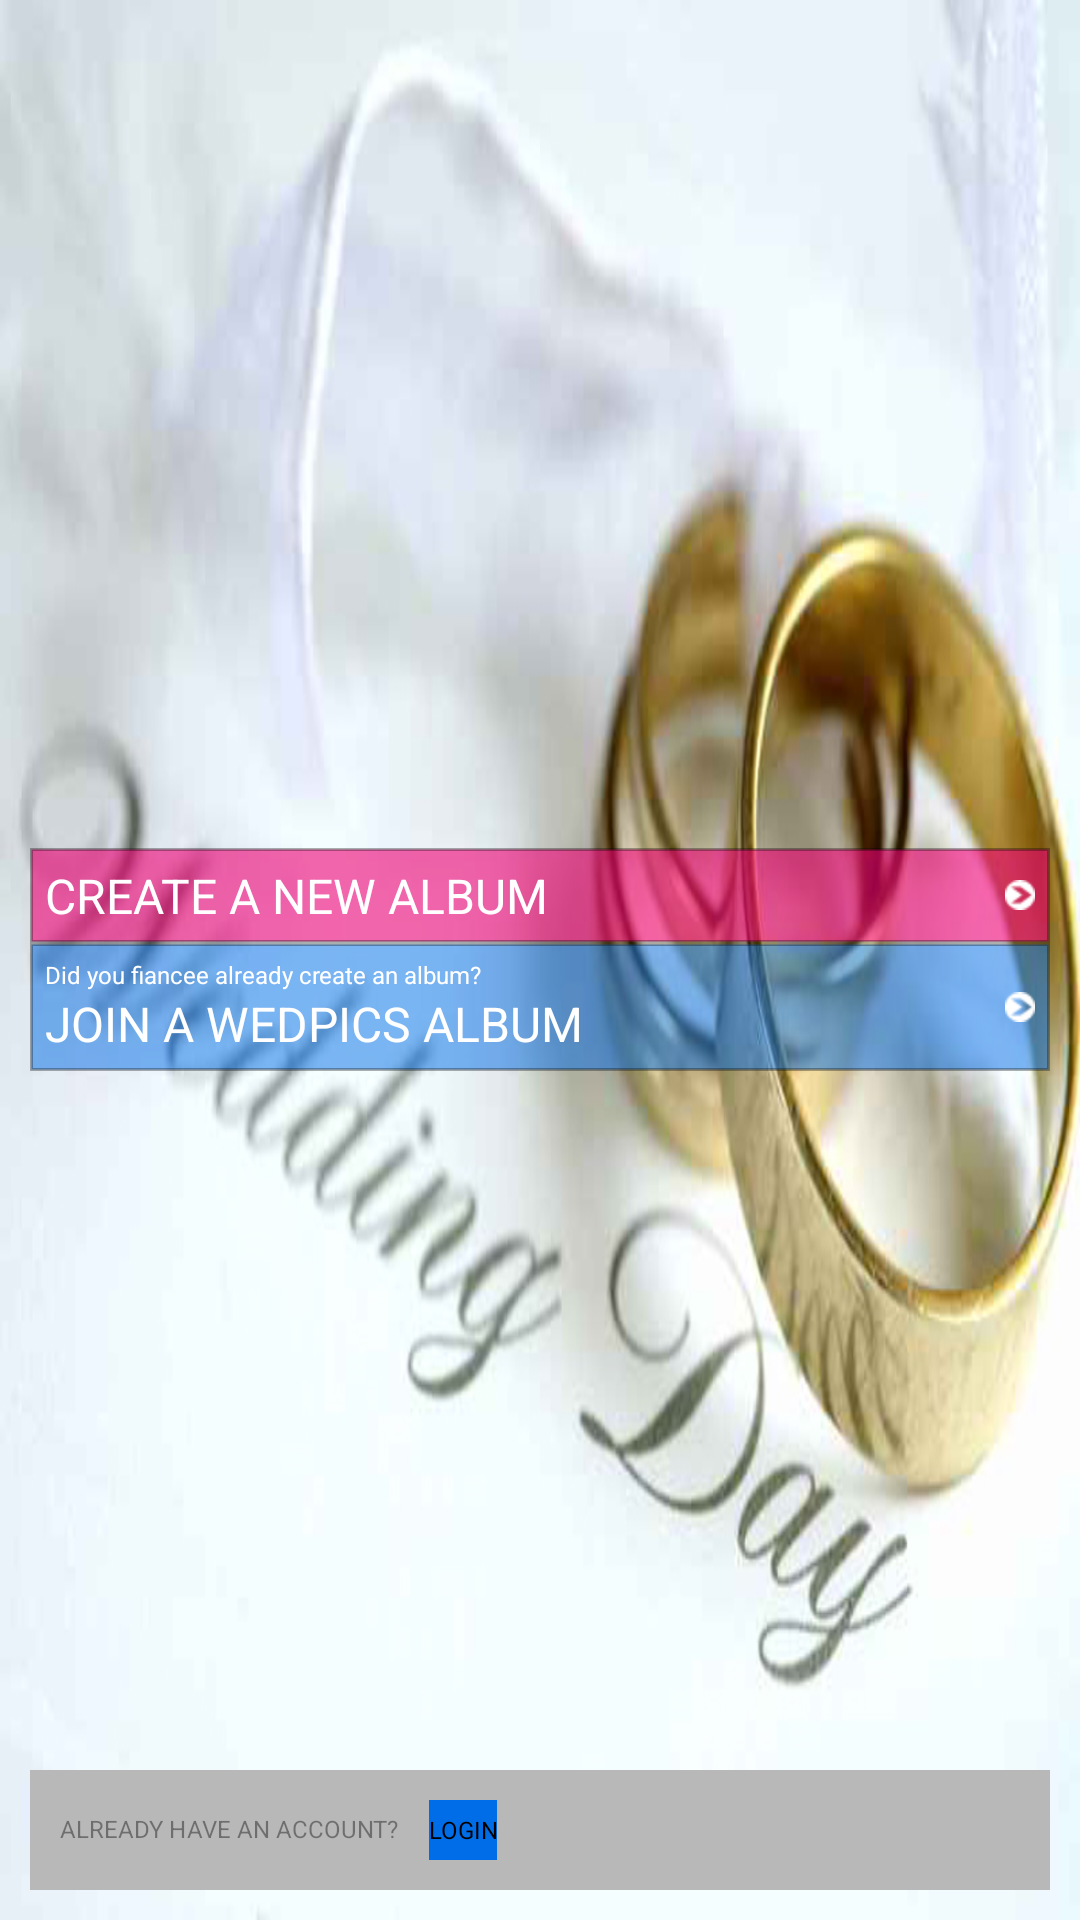

Point at icon controls on the screen. Image size 1080w x 1920h, points as point (x, y).
rarr: point (1020, 895), point (1020, 1007)
